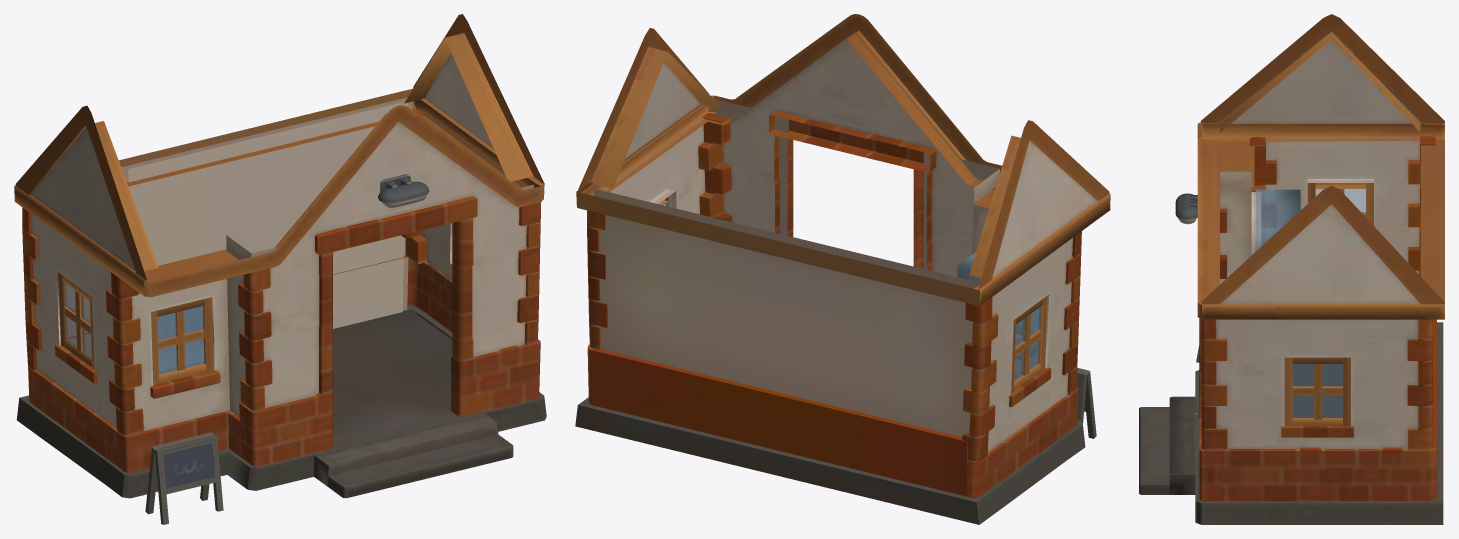
The model's file is wall-na-brick.glb.
3 renders of one model, left to right at view 1: azimuth 30°, elevation 25°; view 2: azimuth 150°, elevation 25°; view 3: azimuth 270°, elevation 25°, orthographic. The views are drawn at different scales.
Bounding box in the file's own units: 38.65 × 33.77 × 27.15.
7 materials, 3 textured.
